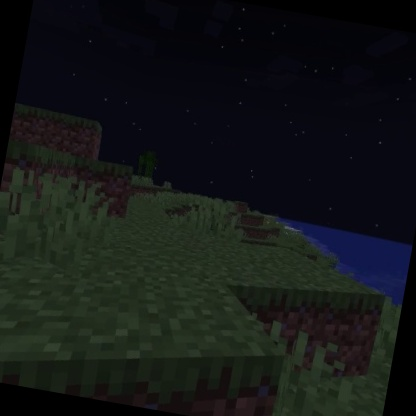spider: (88, 181, 267, 348)
